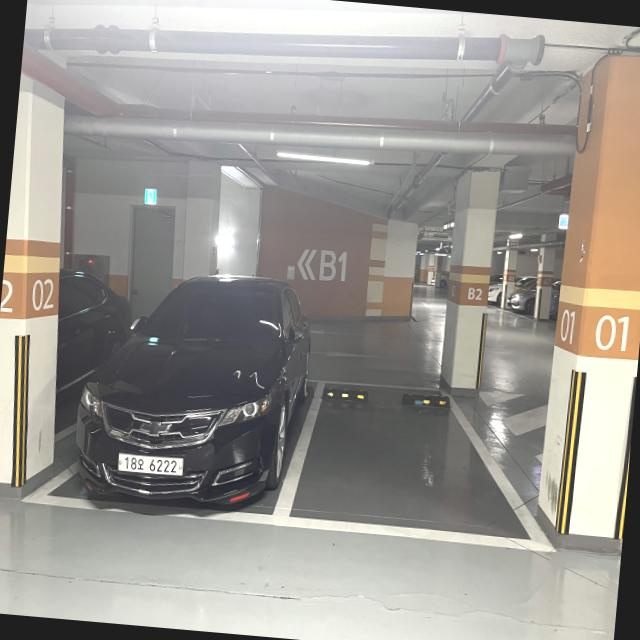car: (66, 253, 313, 538)
free: (282, 375, 569, 552)
